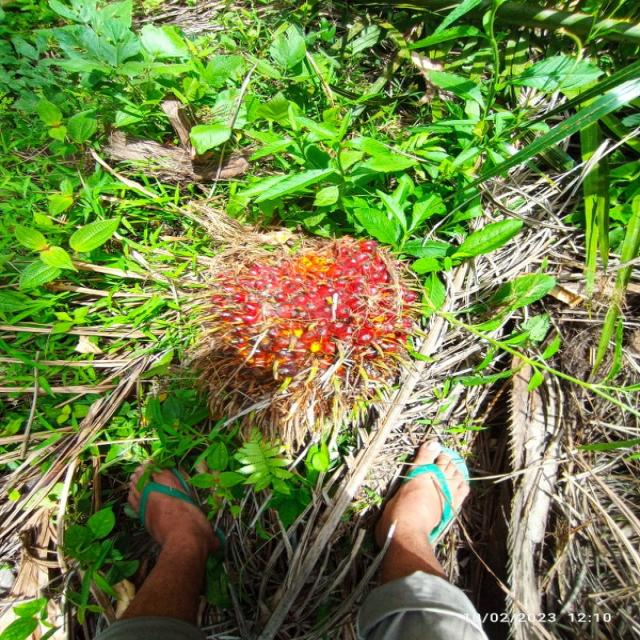fraksi 3: (155, 206, 432, 450)
